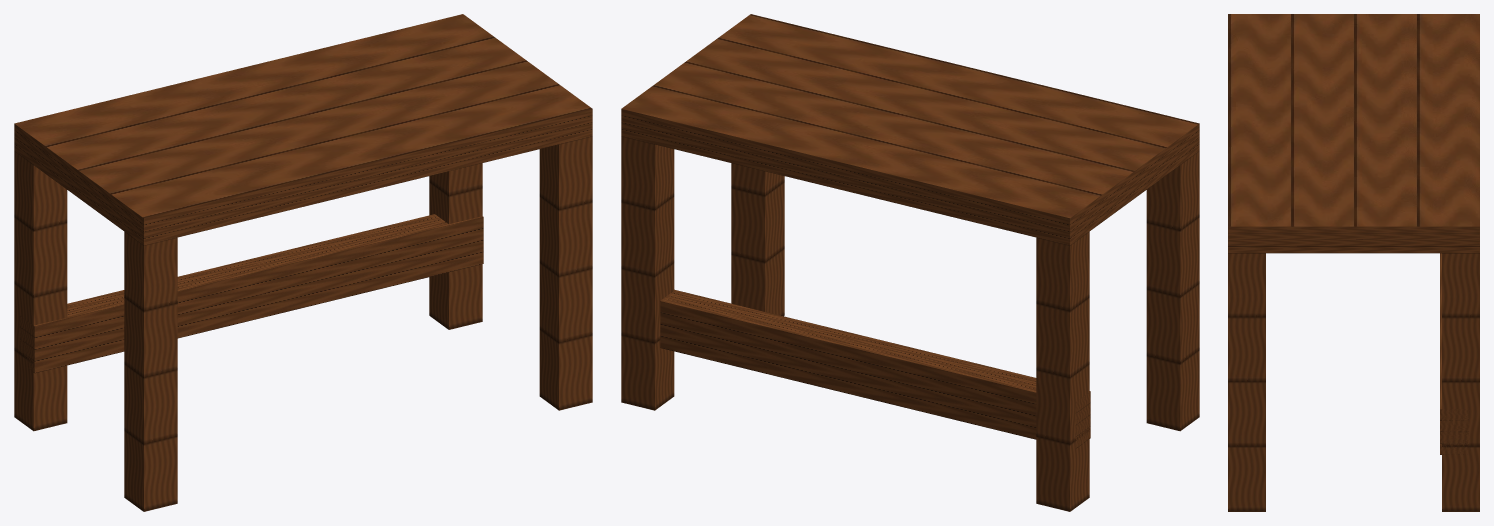
Rendered from suburban-outbreak-interiors-desk-open-frame-f0cf5269__19961.glb.
3 views of the same model, side by side, from view 1: azimuth 30°, elevation 25°; view 2: azimuth 150°, elevation 25°; view 3: azimuth 270°, elevation 25° (orthographic). The views are drawn at different scales.
Visible parts, largest first — view 1: desk-open-frame; view 2: desk-open-frame; view 3: desk-open-frame.
Boxes of the visible parts, bbox=[...] form: desk-open-frame: bbox=[14, 14, 592, 511]; desk-open-frame: bbox=[621, 14, 1199, 511]; desk-open-frame: bbox=[1228, 14, 1479, 511].
Size of the model in its own units: 1.2 by 0.7499 by 0.6001.
1 material, 1 textured.
